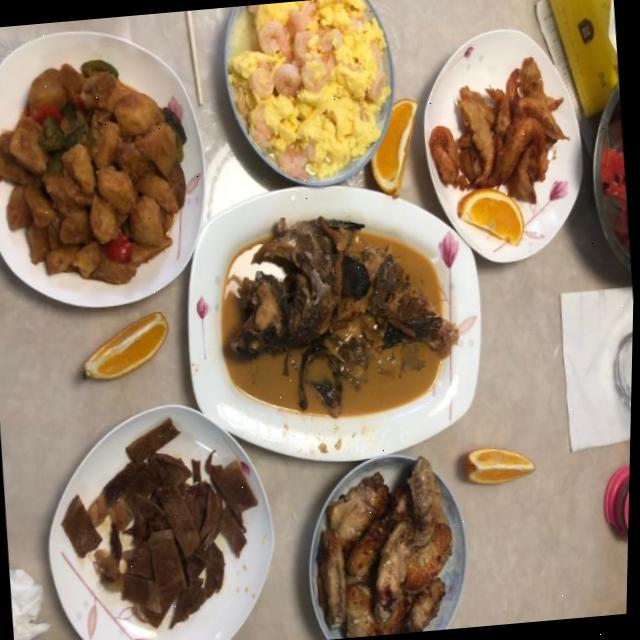Wet: (77, 310, 173, 384), (363, 95, 426, 200), (454, 182, 528, 252), (465, 443, 539, 486)
